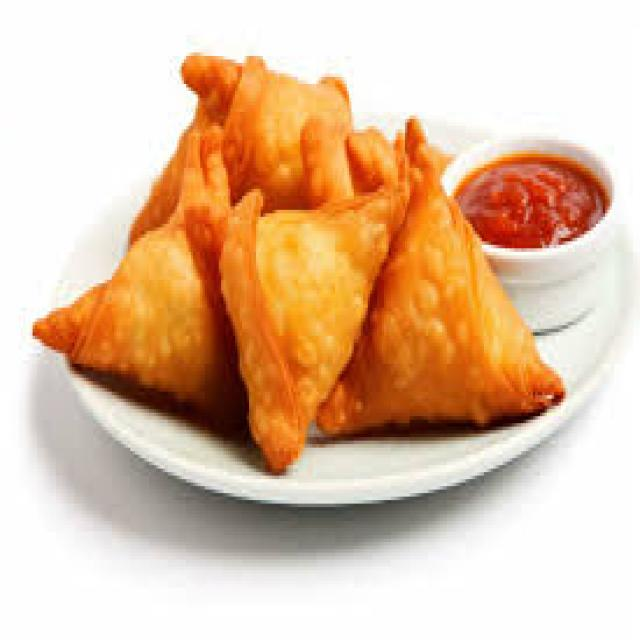SAMOSA: (309, 142, 571, 435), (24, 132, 241, 428), (218, 171, 419, 471)
